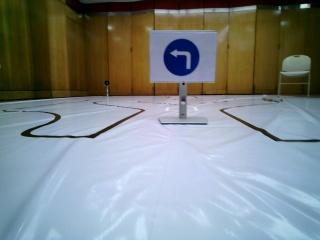left: (150, 30, 212, 81)
